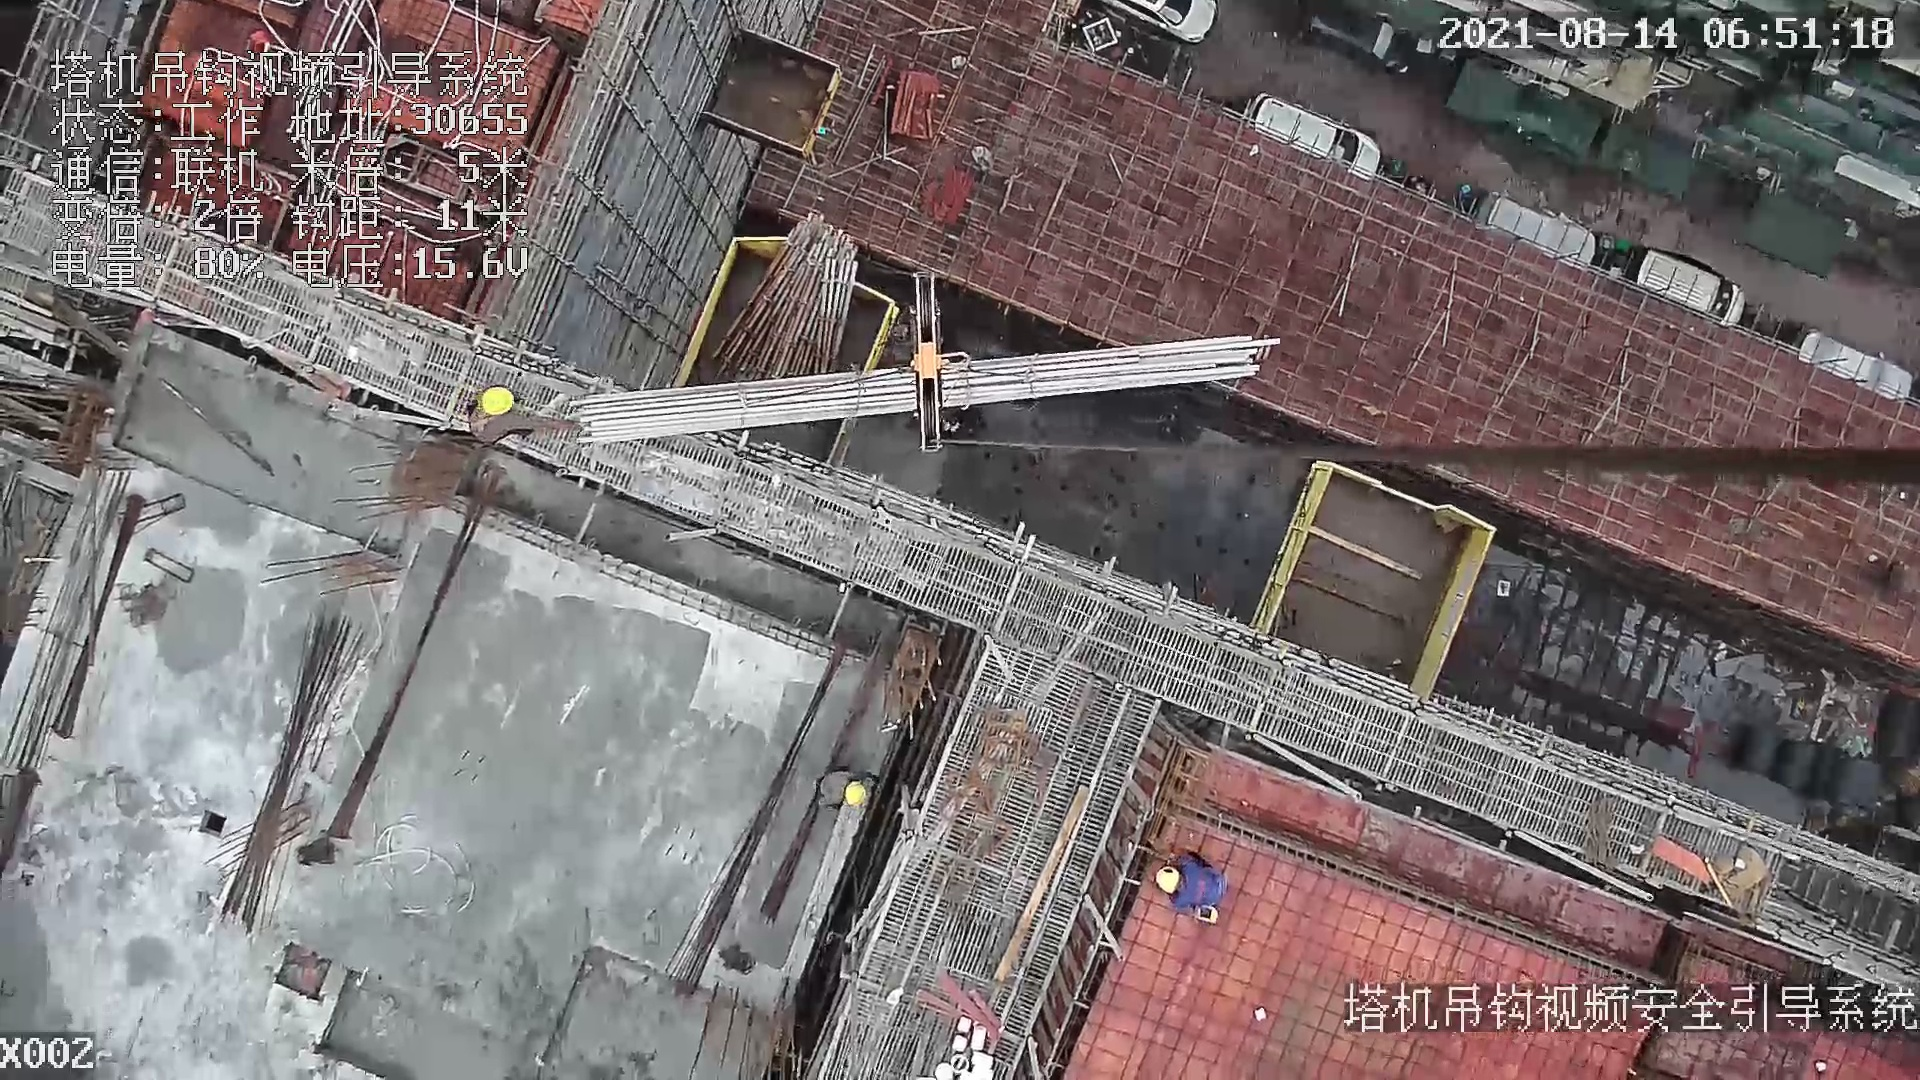helmet: (478, 386, 515, 415), (1153, 866, 1180, 894), (840, 779, 869, 806)
hook: (894, 271, 974, 454)
person: (462, 377, 590, 445), (1150, 849, 1227, 921), (813, 764, 879, 814)
rebar: (582, 333, 1288, 453), (221, 604, 378, 934)
scaffold: (712, 214, 859, 383)
